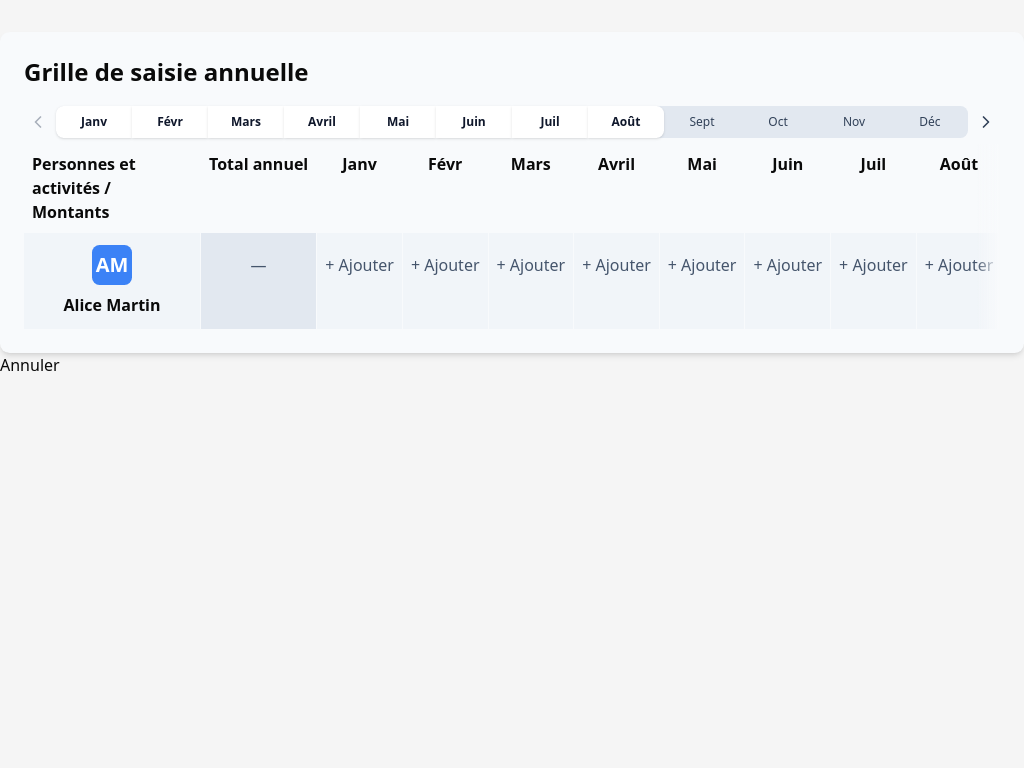
Test: MonthlyGrid, sur plusieurs années › propose les autres années, décochées, et avertit de celles qui sont cochées
Click the button with aria-label "Flux de mars : Alice Martin" at (531, 281), box top-left (488, 233), bottom-right (573, 329)
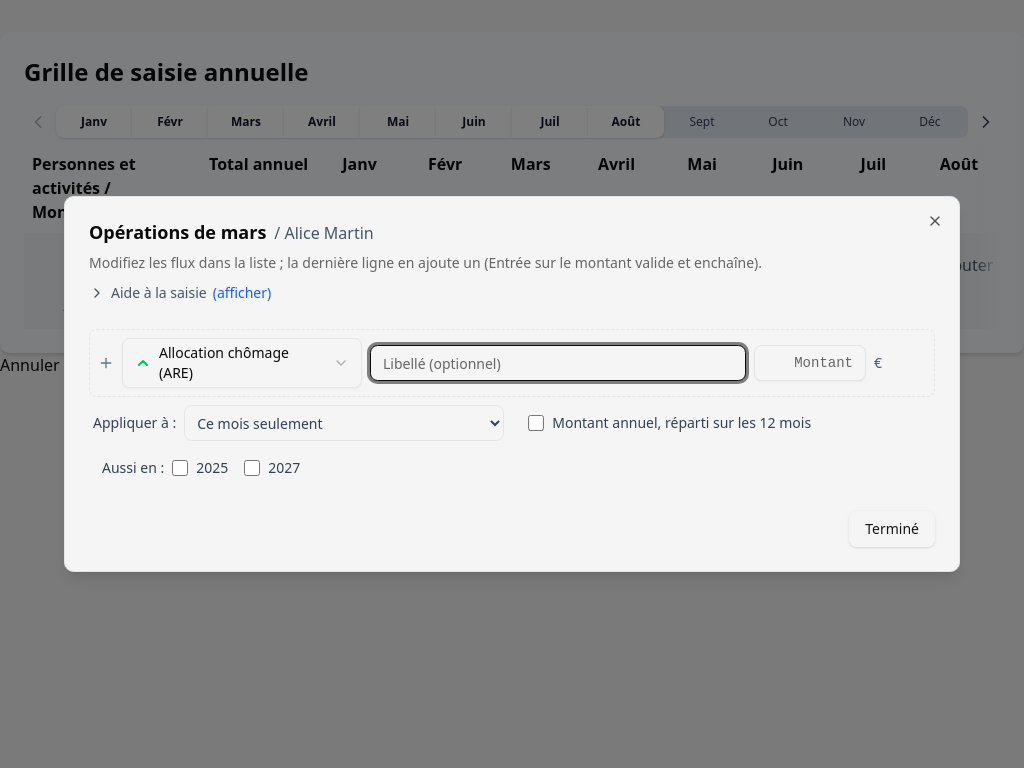
Expected: the text "s'appliquent aussi" is not shown
Expected: the checkbox labelled "2025" is not checked, top-left (172, 460), bottom-right (188, 476)
Click the checkbox labelled "2027" at (252, 468), box top-left (244, 460), bottom-right (260, 476)
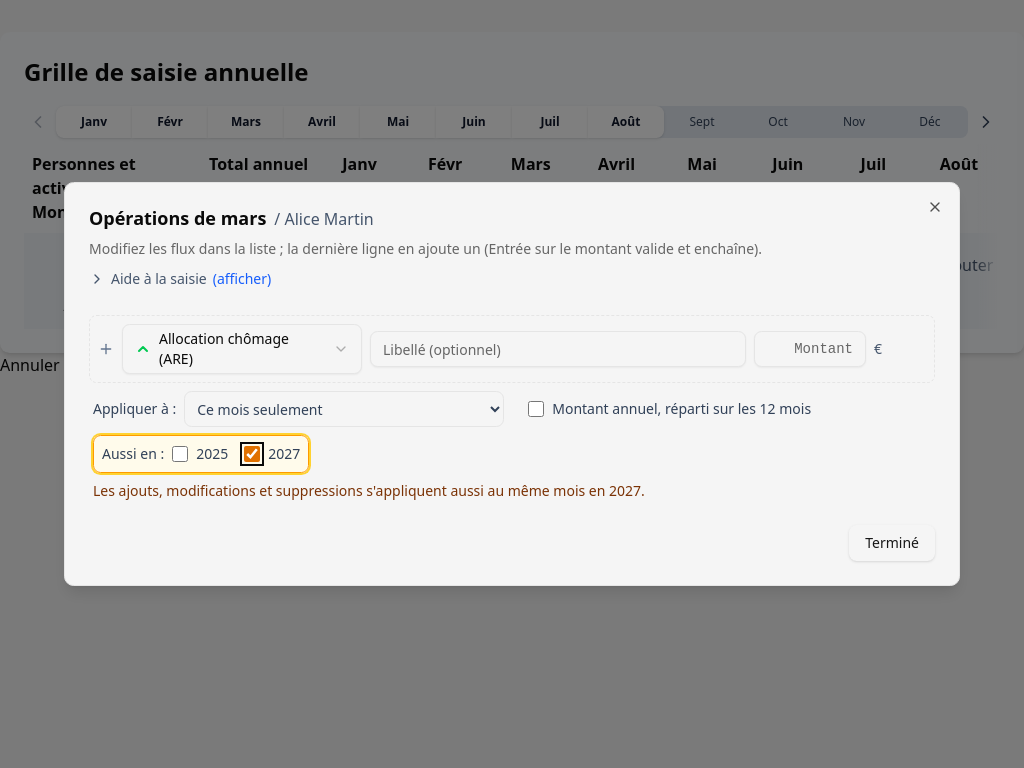
Expected: the text "Les ajouts, modifications et suppressions s'appliquent aussi au même mois en 2027." is shown, top-left (93, 481), bottom-right (645, 500)
Select "Ce mois et les suivants, jusqu'en décembre" in the dropdown labelled "Appliquer à :" at (344, 409), box top-left (184, 391), bottom-right (504, 427)
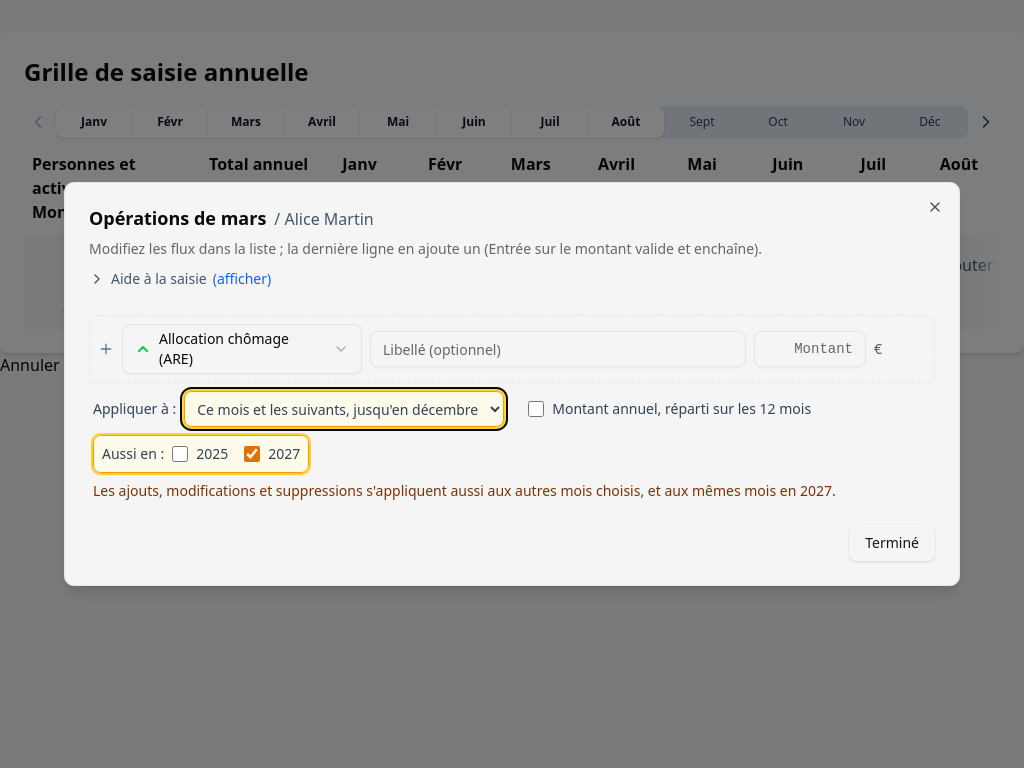
Expected: the text "Les ajouts, modifications et suppressions s'appliquent aussi aux autres mois choisis, et aux mêmes mois en 2027." is shown, top-left (93, 481), bottom-right (836, 500)
